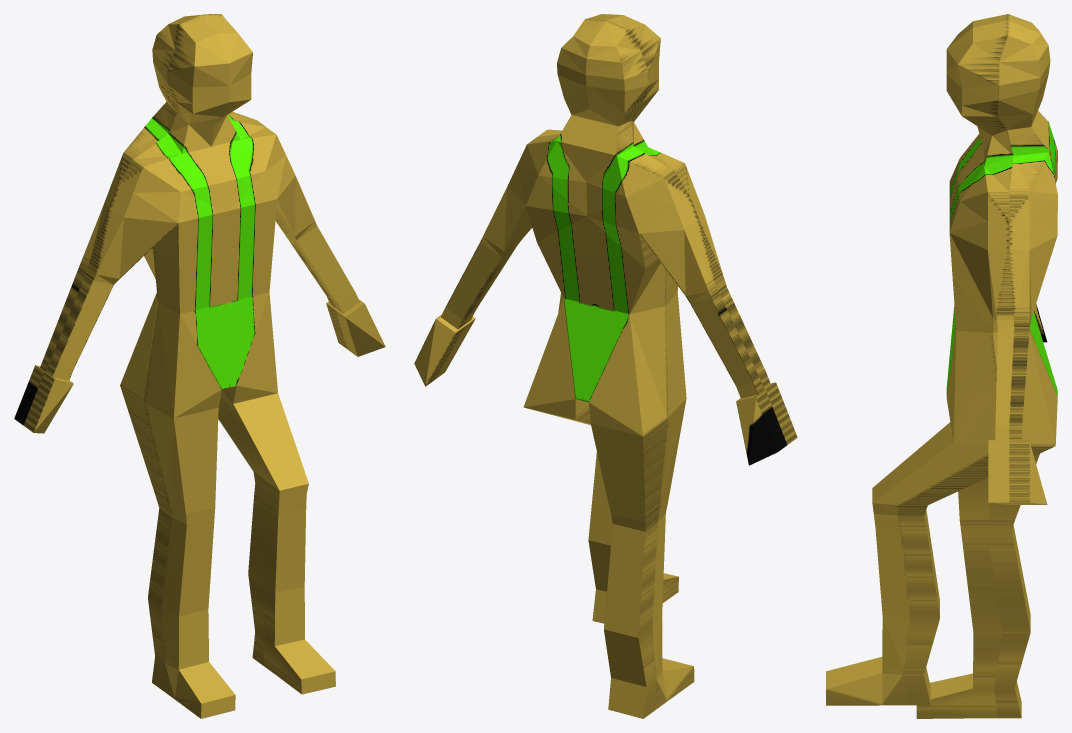
The picture shows the model from 3 angles, left to right: view 1: azimuth 30°, elevation 25°; view 2: azimuth 150°, elevation 25°; view 3: azimuth 270°, elevation 25°; orthographic projection. The views are drawn at different scales.
Parts seen in each view (by area): view 1: Borat; view 2: Borat; view 3: Borat.
Boxes of the visible parts, bbox=[...] form: Borat: bbox=[14, 14, 385, 718]; Borat: bbox=[414, 14, 797, 718]; Borat: bbox=[826, 14, 1057, 718].
Bounding box in the file's own units: 1.79 × 3.21 × 0.9604.
